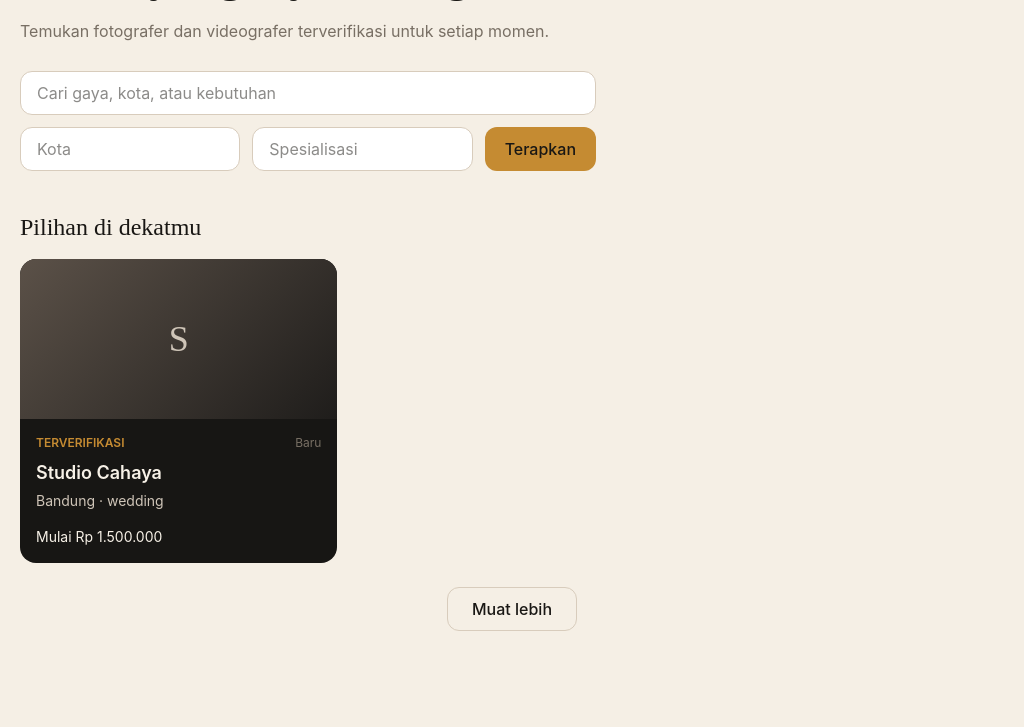
HomePage › loads the next page via Muat lebih
(page scrolled)
Click the button "Muat lebih": x=512, y=609 [447, 587, 577, 631]
(page scrolled)
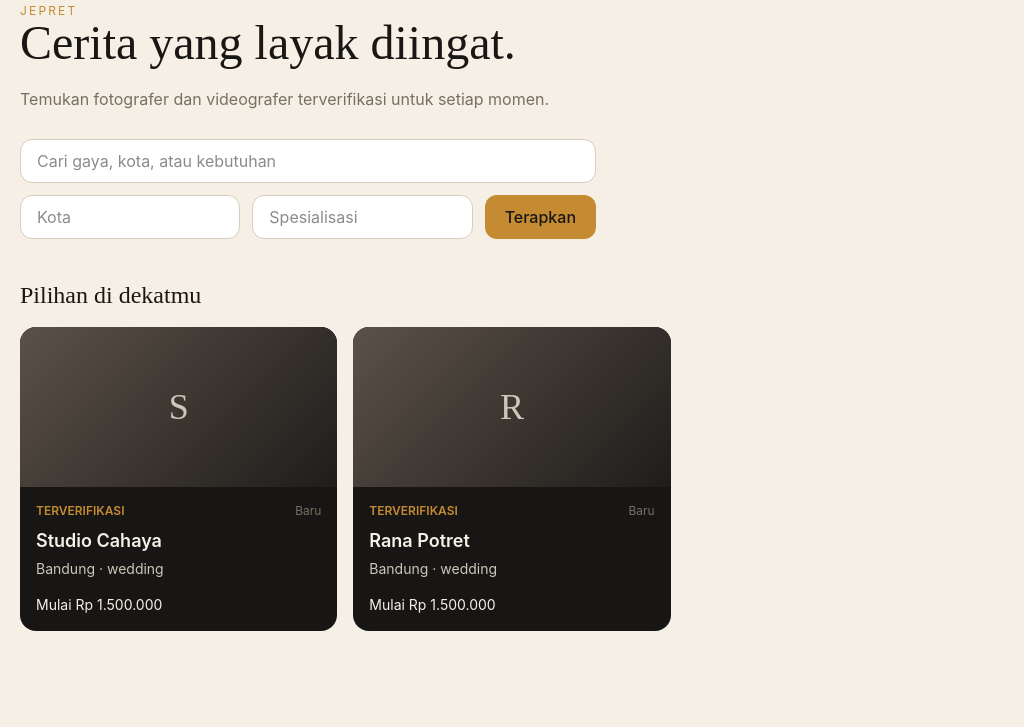
Result: the heading "Rana Potret" is shown at [369, 530, 470, 551]
